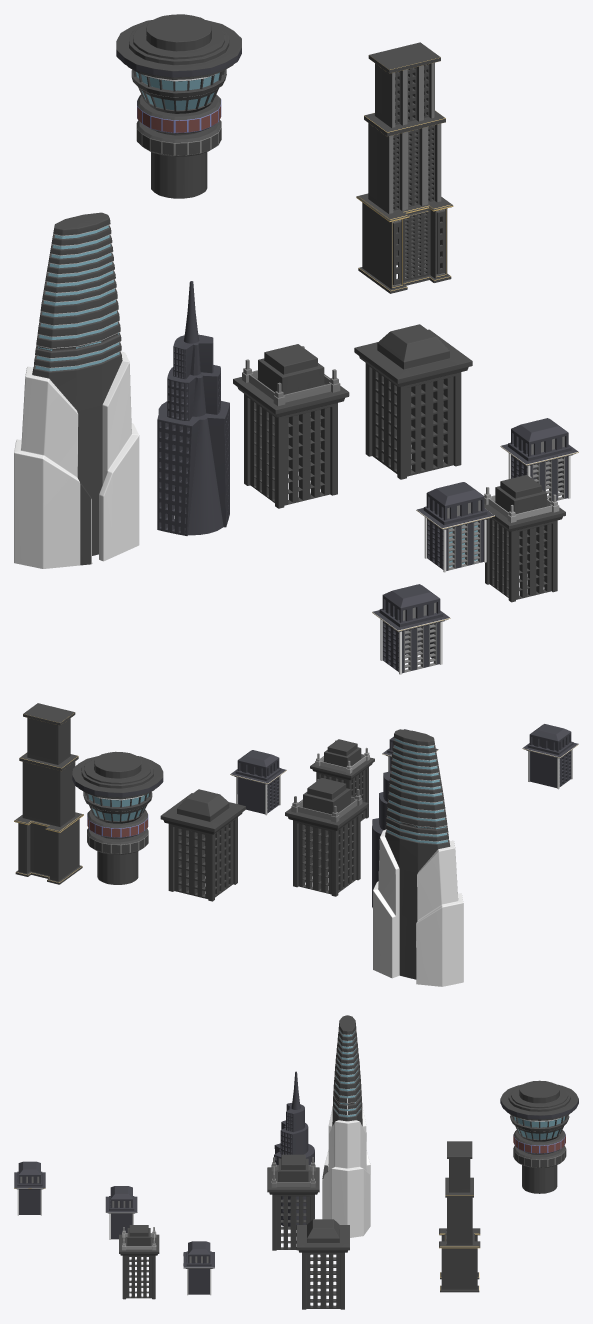
Rendered from BUILDINGS.fbx.
The picture shows the model from 3 angles, top to bottom: view 1: azimuth 30°, elevation 25°; view 2: azimuth 150°, elevation 25°; view 3: azimuth 270°, elevation 25°; orthographic projection. The views are drawn at different scales.
Visible parts, largest first — view 1: Building3, building (×2), Building (×4), polySurface2 (×2), Building5, vitre (×2), polySurface1; view 2: Building3, building (×2), Building5, polySurface2 (×2), Building (×3), vitre (×2), polySurface1 (×2); view 3: building (×2), Building3, Building (×4), polySurface2 (×2), Building5, vitre (×2), polySurface1.
Boxes of the visible parts, left/top/right/bottom form: Building3: left=14, top=212, right=139, bottom=568; building (×2): left=116, top=14, right=472, bottom=479; Building (×4): left=157, top=281, right=578, bottom=674; polySurface2 (×2): left=233, top=344, right=565, bottom=602; Building5: left=356, top=42, right=453, bottom=293; vitre (×2): left=35, top=72, right=219, bottom=371; polySurface1: left=242, top=346, right=340, bottom=405; Building3: left=373, top=729, right=463, bottom=986; building (×2): left=72, top=751, right=245, bottom=901; Building5: left=14, top=703, right=83, bottom=884; polySurface2 (×2): left=285, top=739, right=374, bottom=896; Building (×3): left=230, top=724, right=578, bottom=907; vitre (×2): left=88, top=738, right=447, bottom=843; polySurface1 (×2): left=291, top=740, right=369, bottom=822; building (×2): left=296, top=1080, right=578, bottom=1309; Building3: left=322, top=1015, right=370, bottom=1237; Building (×4): left=14, top=1071, right=314, bottom=1295; polySurface2 (×2): left=119, top=1154, right=319, bottom=1299; Building5: left=439, top=1141, right=480, bottom=1292; vitre (×2): left=334, top=1031, right=564, bottom=1139; polySurface1: left=271, top=1157, right=315, bottom=1187.
Size of the model in its own units: 66.76 by 42.42 by 104.
